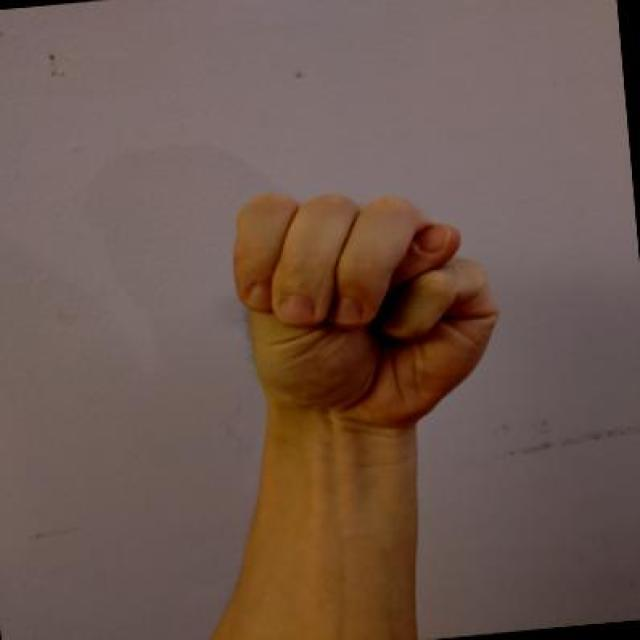M: (224, 177, 515, 460)
